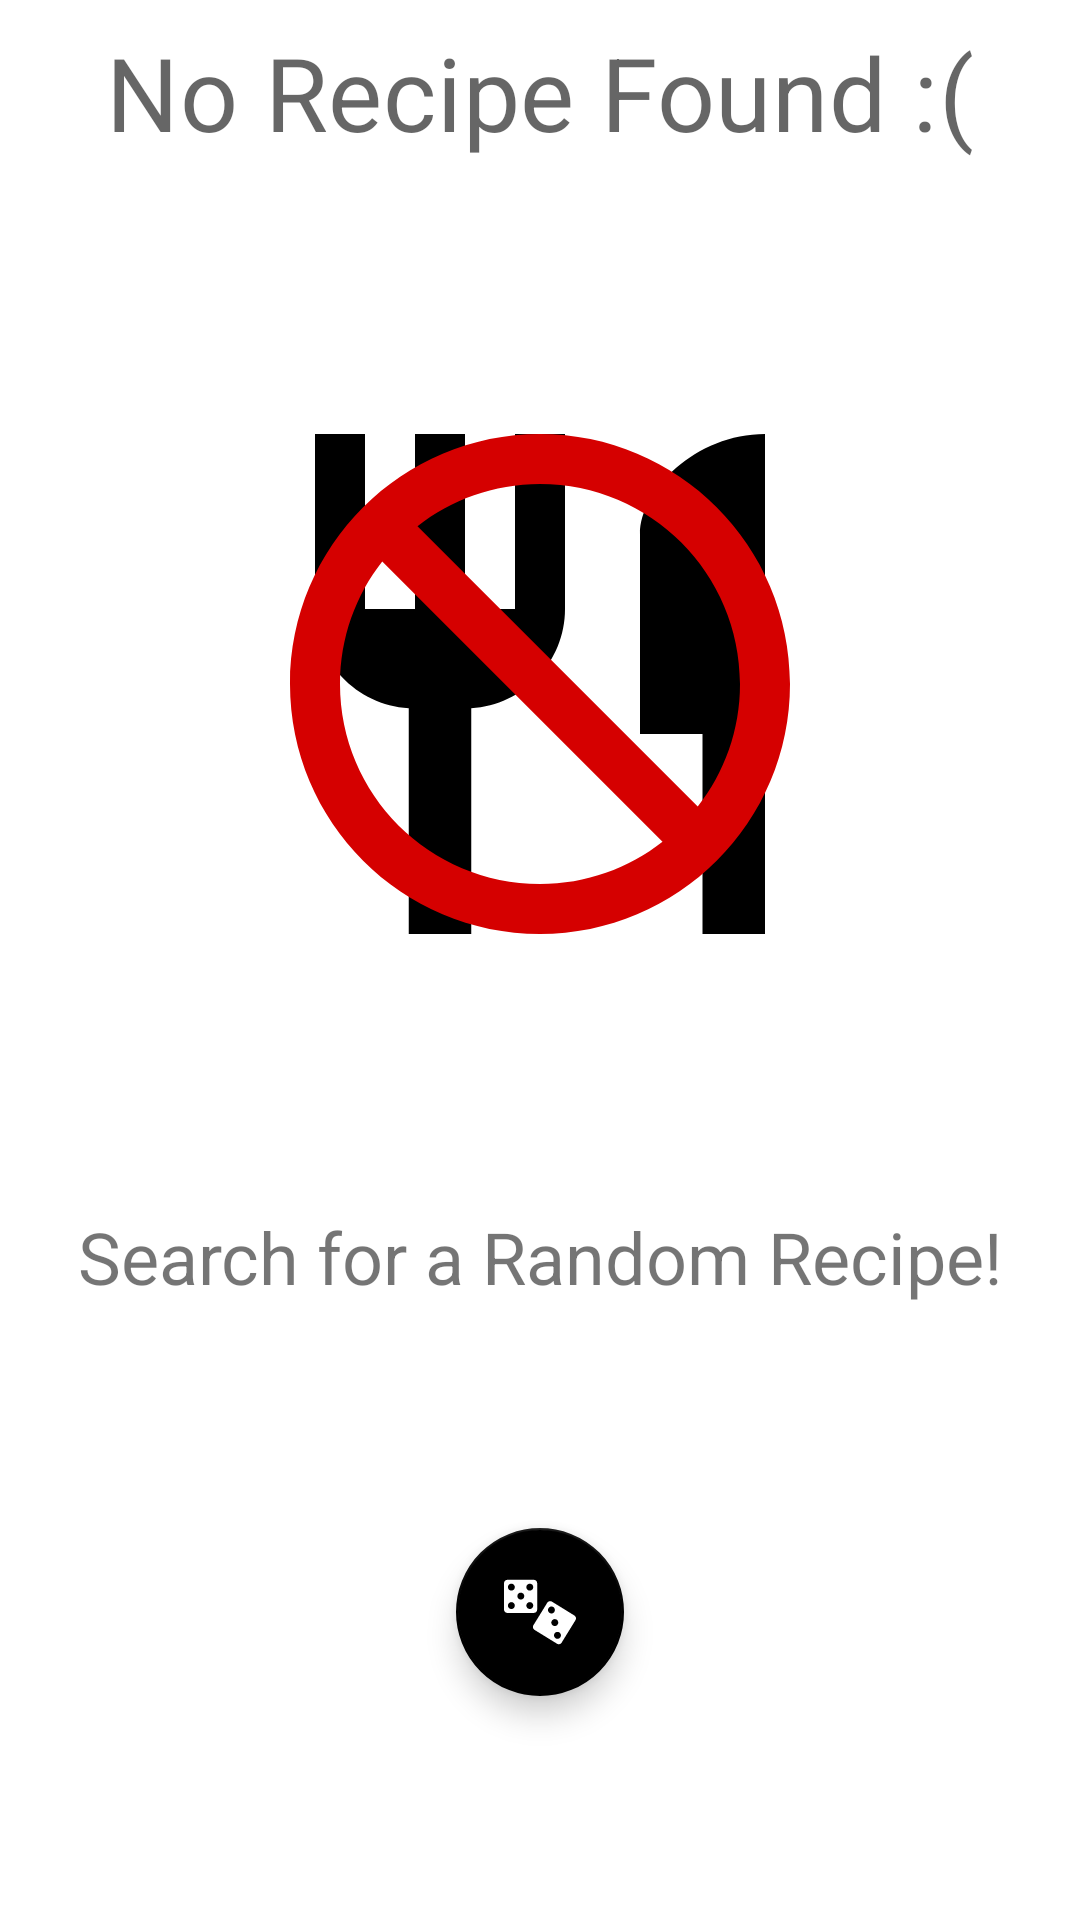

Where icons sit on this 1080w x 1920h app screen, as BBox(x1, y1, x2, y2):
dices: BBox(456, 1528, 624, 1696)
